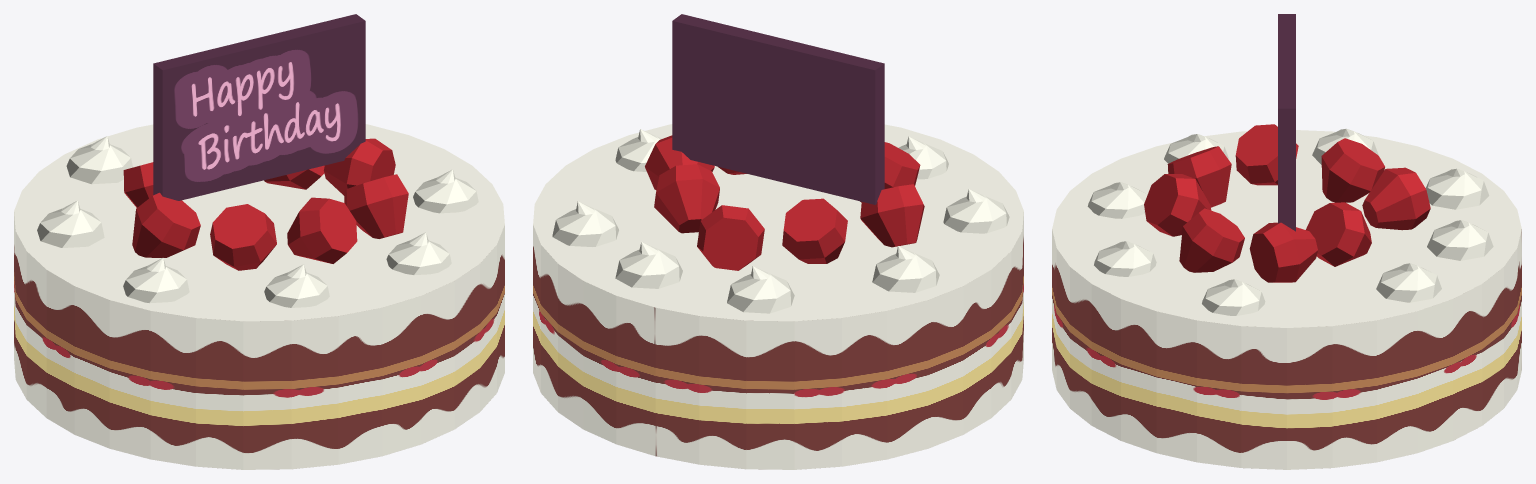
The model's file is cake.glb.
3 views of the same model, side by side, from view 1: azimuth 30°, elevation 25°; view 2: azimuth 150°, elevation 25°; view 3: azimuth 270°, elevation 25° (orthographic). The views are drawn at different scales.
Visible parts, largest first — view 1: ケーキ, 立方体, 苺, クリーム; view 2: ケーキ, 立方体, 苺, クリーム; view 3: ケーキ, 苺, クリーム, 立方体.
Boxes of the visible parts, x1,y1,x2,y2 form: ケーキ: (14, 124, 504, 469); 立方体: (153, 14, 365, 200); 苺: (123, 138, 408, 270); クリーム: (37, 136, 478, 307); ケーキ: (533, 124, 1023, 469); 立方体: (672, 14, 884, 204); 苺: (645, 135, 924, 270); クリーム: (552, 129, 1009, 313); ケーキ: (1052, 130, 1521, 469); 苺: (1144, 124, 1430, 282); クリーム: (1087, 128, 1493, 315); 立方体: (1278, 14, 1295, 231).
Bounding box in the file's own units: 0.21 × 0.1527 × 0.21.
Materials: 4 (2 with a texture image).
